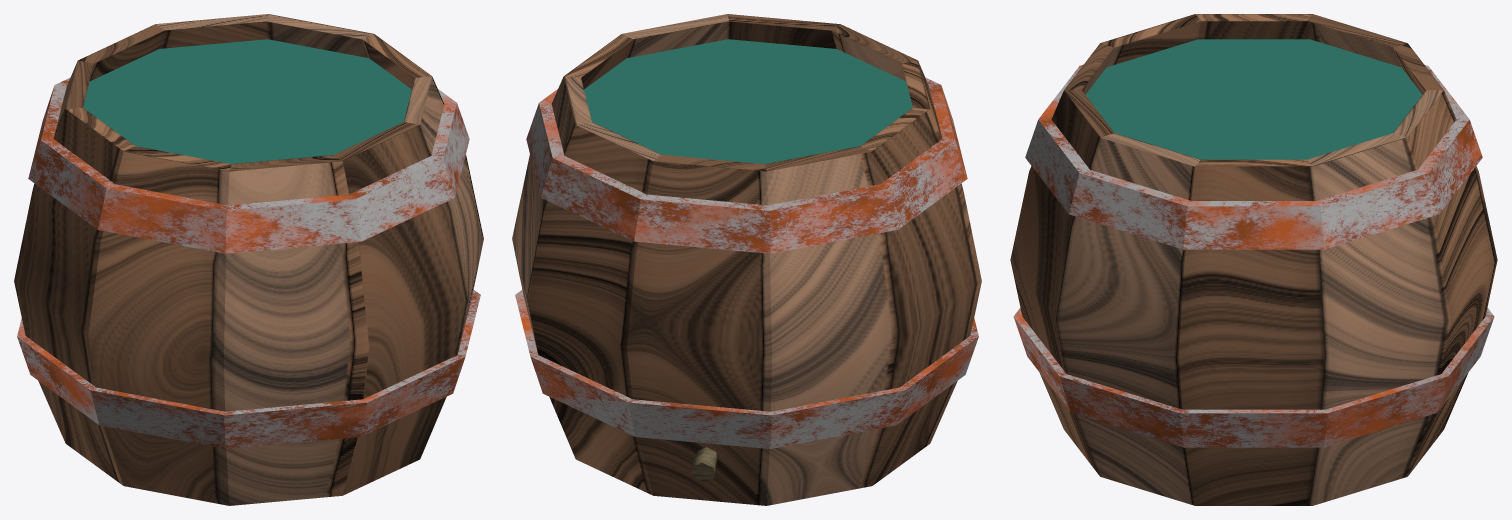
File: Barrel.fbx
3 views of the same model, side by side, from view 1: azimuth 30°, elevation 25°; view 2: azimuth 150°, elevation 25°; view 3: azimuth 270°, elevation 25° (orthographic).
Visible parts, largest first — view 1: Barrel, Cylinder.001; view 2: Barrel, Cylinder.001, Cork; view 3: Barrel, Cylinder.001.
Part boxes in pixels (x1,y1,x2,y2): Barrel: (14,14,483,505); Cylinder.001: (17,77,480,448); Barrel: (512,14,981,505); Cylinder.001: (515,77,978,448); Cork: (691,447,717,481); Barrel: (1010,14,1497,505); Cylinder.001: (1013,64,1494,447).
Size of the model in its own units: 310 by 250 by 325.
